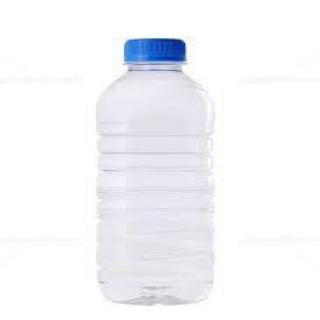Plastic-bottle: (92, 37, 220, 308)
